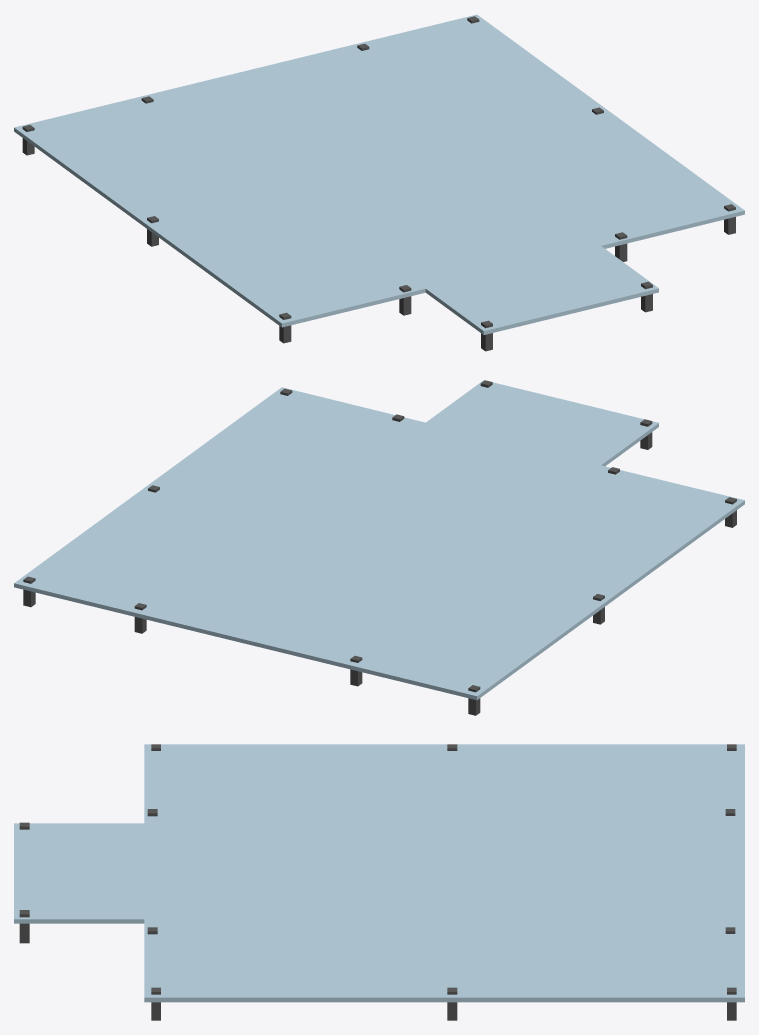
The model's file is glass roof.fbx.
3 renders of one model, top to bottom at view 1: azimuth 30°, elevation 25°; view 2: azimuth 150°, elevation 25°; view 3: azimuth 270°, elevation 25°, orthographic. The views are drawn at different scales.
Parts seen in each view (by area): view 1: Cube.007, Cube.006; view 2: Cube.007, Cube.006; view 3: Cube.007, Cube.006.
Boxes of the visible parts, left/top/right/bottom form: Cube.007: left=14, top=14, right=744, bottom=334; Cube.006: left=22, top=16, right=735, bottom=351; Cube.007: left=14, top=380, right=744, bottom=700; Cube.006: left=23, top=380, right=736, bottom=715; Cube.007: left=14, top=744, right=744, bottom=1002; Cube.006: left=19, top=744, right=736, bottom=1020.
Size of the model in its own units: 1405 by 74.76 by 1712.
